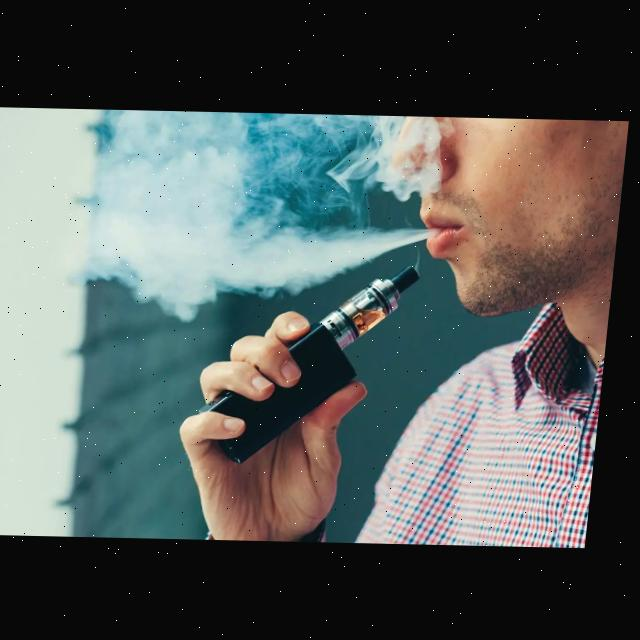vape: (203, 258, 427, 464)
